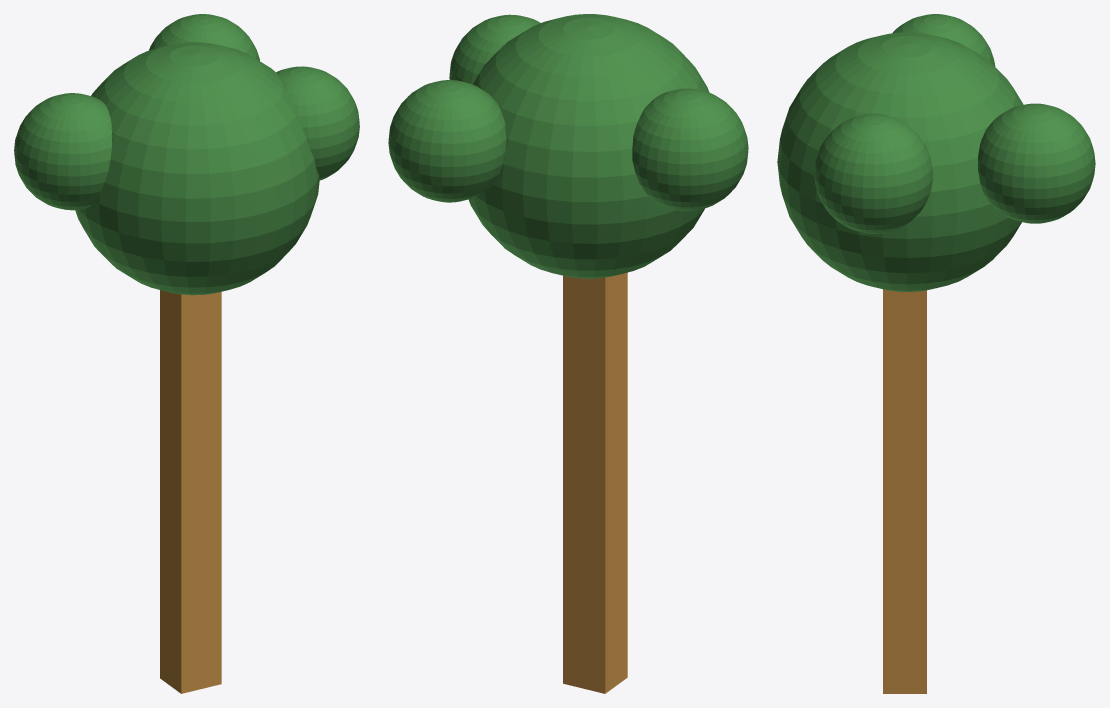
The picture shows the model from 3 angles, left to right: view 1: azimuth 30°, elevation 25°; view 2: azimuth 150°, elevation 25°; view 3: azimuth 270°, elevation 25°; orthographic projection. The views are drawn at different scales.
Parts seen in each view (by area): view 1: Tree.002; view 2: Tree.002; view 3: Tree.002.
Boxes of the visible parts, x1,y1,x2,y2 form: Tree.002: (14,14,359,693); Tree.002: (388,14,748,693); Tree.002: (777,14,1095,693).
Size of the model in its own units: 200 by 178 by 397.
